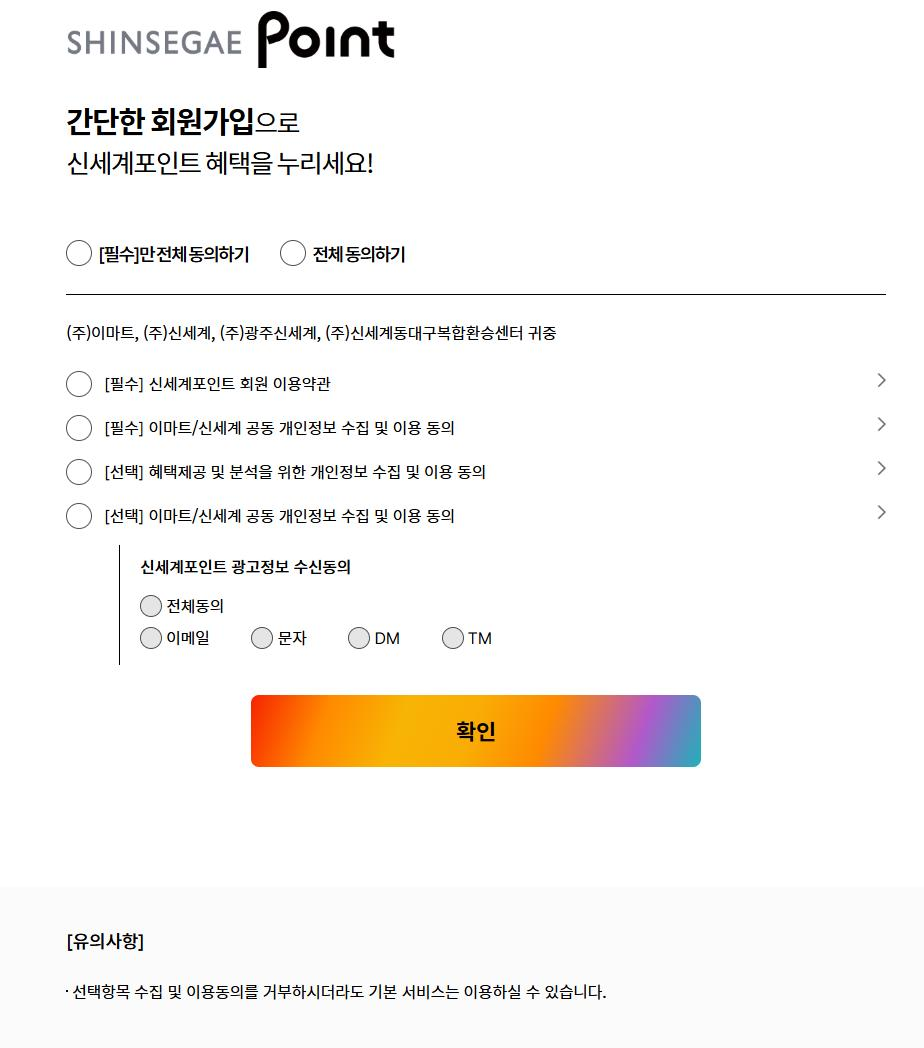button: (250, 689, 707, 770)
checkbox: (60, 457, 491, 486), (63, 500, 463, 531), (59, 414, 471, 444), (64, 371, 330, 399), (60, 237, 259, 270), (276, 237, 416, 267), (134, 589, 230, 614), (247, 619, 311, 649), (440, 627, 514, 650), (130, 629, 211, 649), (356, 626, 410, 650)
